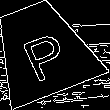P_NW: (12, 19, 71, 80)
